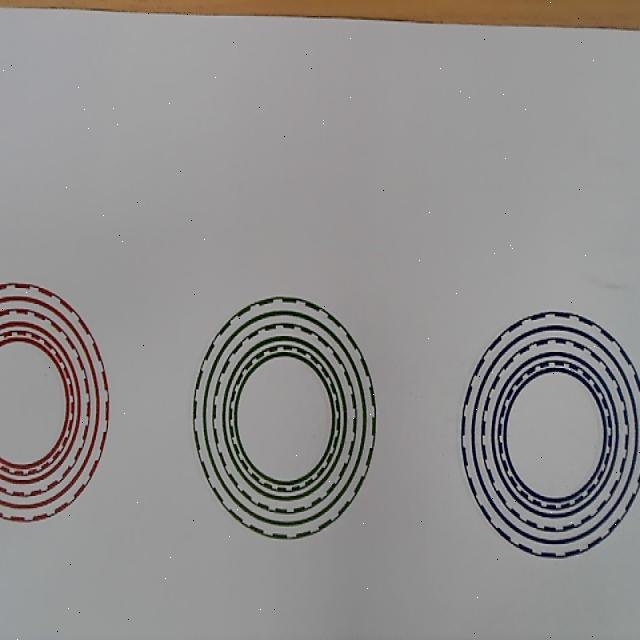g: (193, 295, 376, 540)
